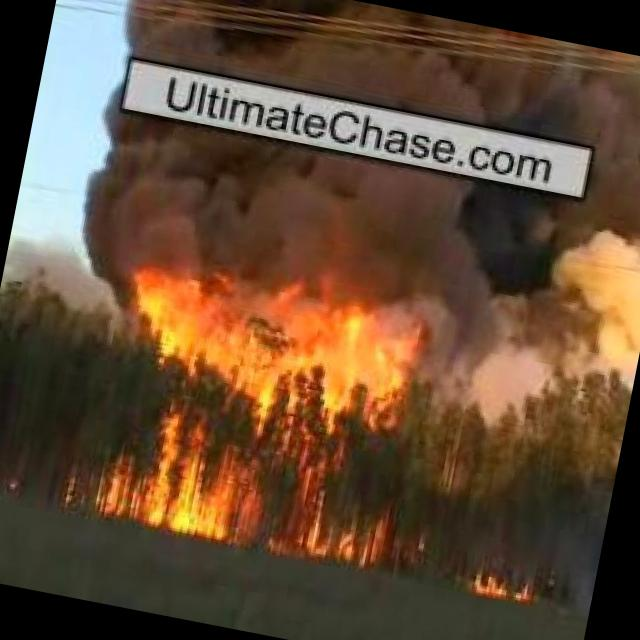Fire: (90, 260, 446, 572), (469, 574, 546, 608)
Smoke: (70, 111, 640, 364), (113, 0, 640, 163)
